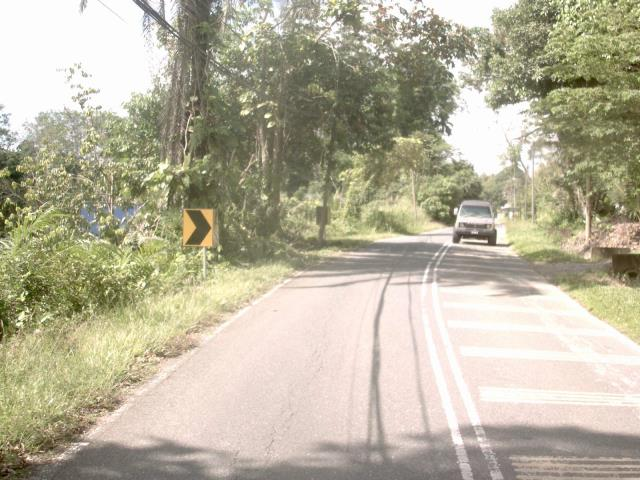traffic_sign: (174, 200, 222, 257)
